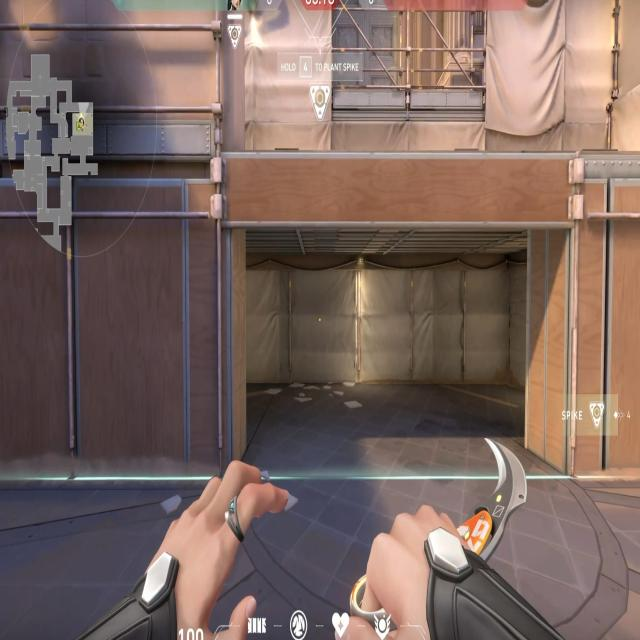A_Hell: (172, 151, 621, 507)
